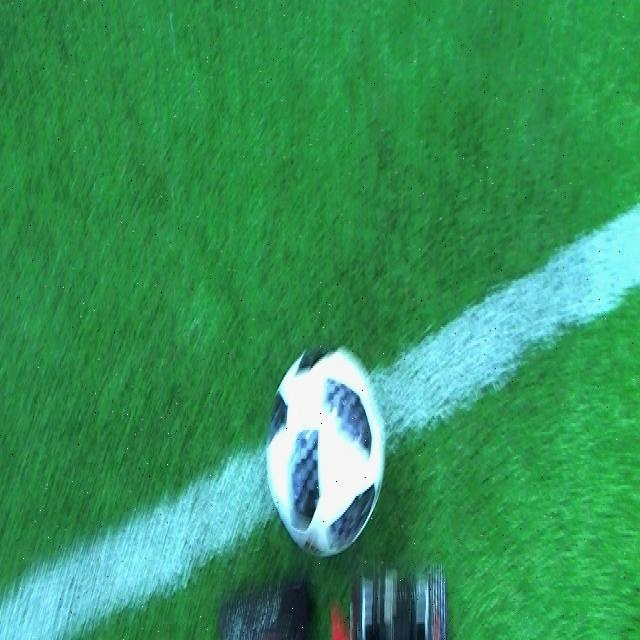ball: (265, 341, 386, 555)
